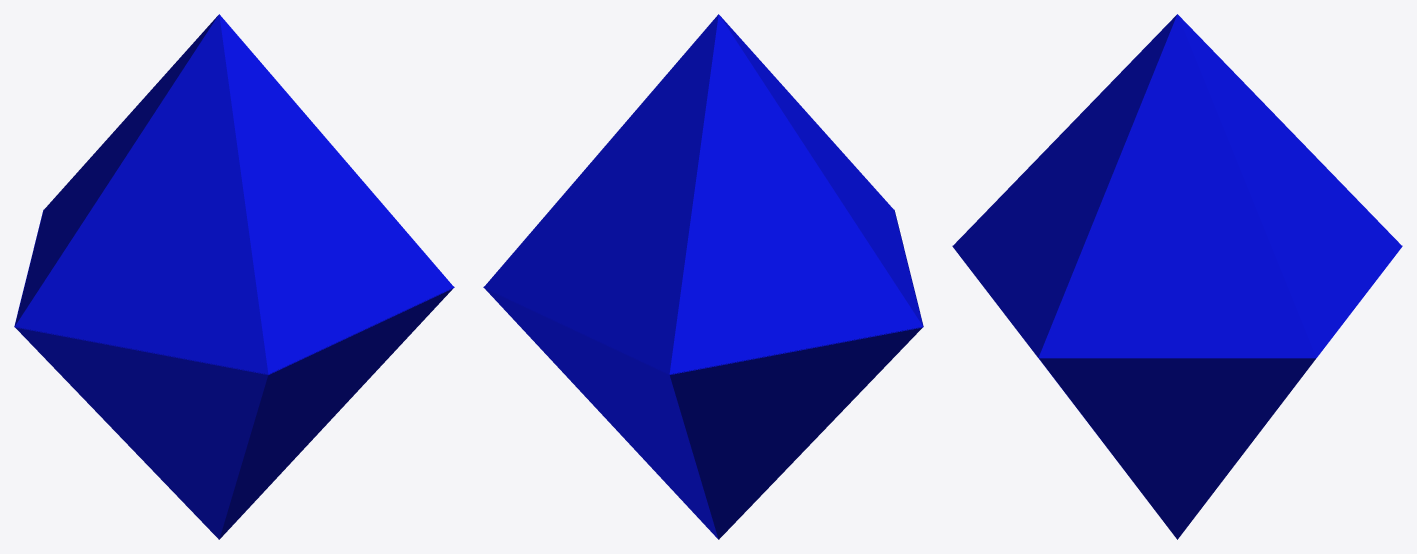
File: Cristal.fbx
3 views of the same model, side by side, from view 1: azimuth 30°, elevation 25°; view 2: azimuth 150°, elevation 25°; view 3: azimuth 270°, elevation 25° (orthographic).
Visible parts, largest first — view 1: Cristal; view 2: Cristal; view 3: Cristal.
Boxes of the visible parts, x1,y1,x2,y2 form: Cristal: (14, 14, 454, 539); Cristal: (483, 14, 923, 539); Cristal: (952, 14, 1402, 539).
Bounding box in the file's own units: 84.93 × 115 × 89.3.
